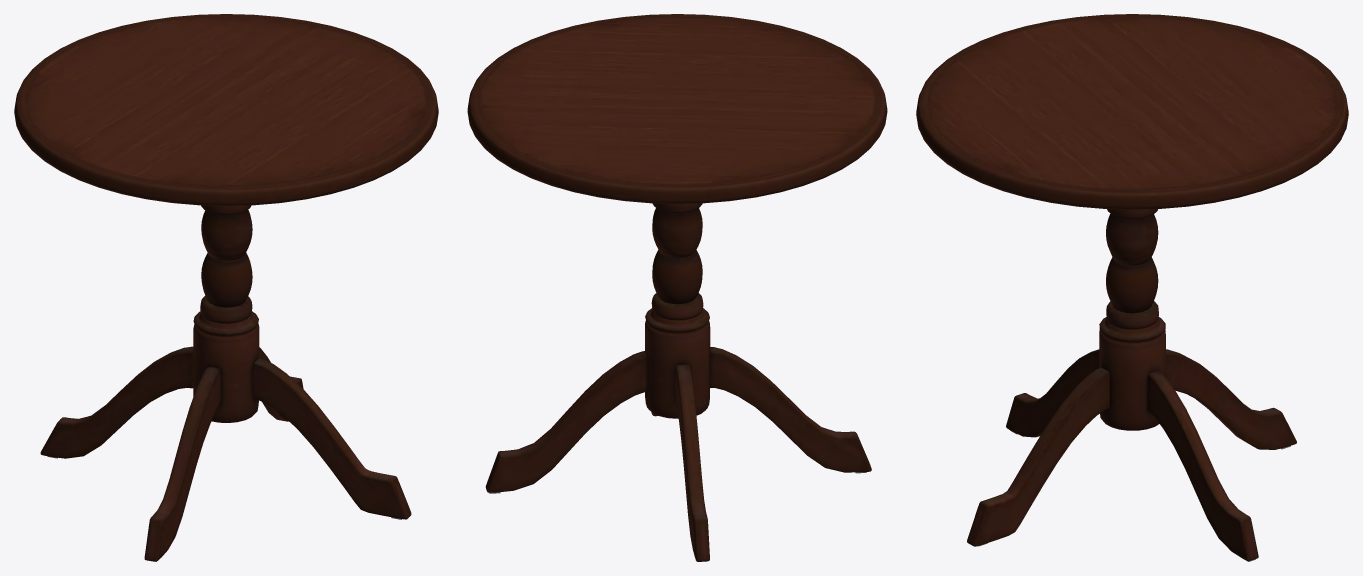
Rendered from ph-round-wooden-table-01.glb.
3 renders of one model, left to right at view 1: azimuth 30°, elevation 25°; view 2: azimuth 150°, elevation 25°; view 3: azimuth 270°, elevation 25°, orthographic. The views are drawn at different scales.
Parts seen in each view (by area): view 1: round_wooden_table_01; view 2: round_wooden_table_01; view 3: round_wooden_table_01.
Part boxes in pixels (x1,y1,x2,y2): round_wooden_table_01: [14, 14, 438, 561]; round_wooden_table_01: [467, 14, 887, 561]; round_wooden_table_01: [916, 14, 1348, 561].
Size of the model in its own units: 1 by 1 by 1.
Materials: 1 (1 with a texture image).
